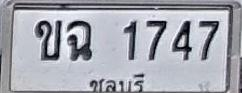1: (123, 20, 137, 60)
4: (172, 20, 193, 60)
7: (198, 20, 220, 60), (146, 20, 167, 60)
A02: (34, 20, 62, 60)
A09: (66, 20, 92, 60)
CBI: (86, 71, 149, 93)
